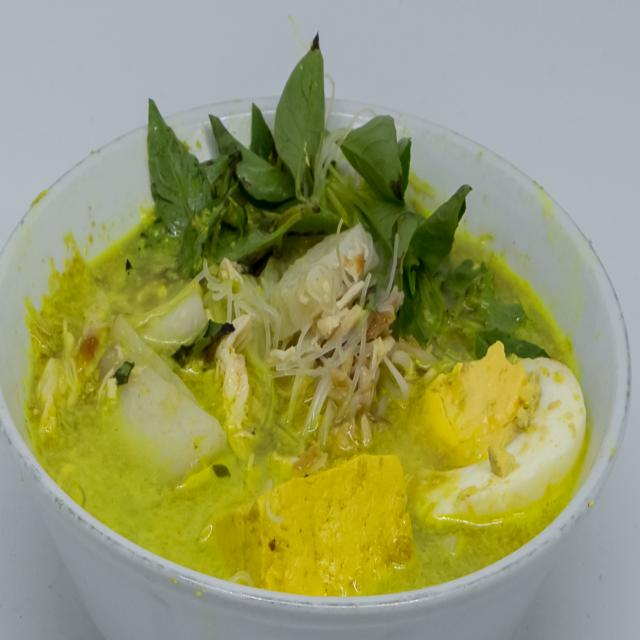Laksa-Bogor: (25, 22, 599, 618)
